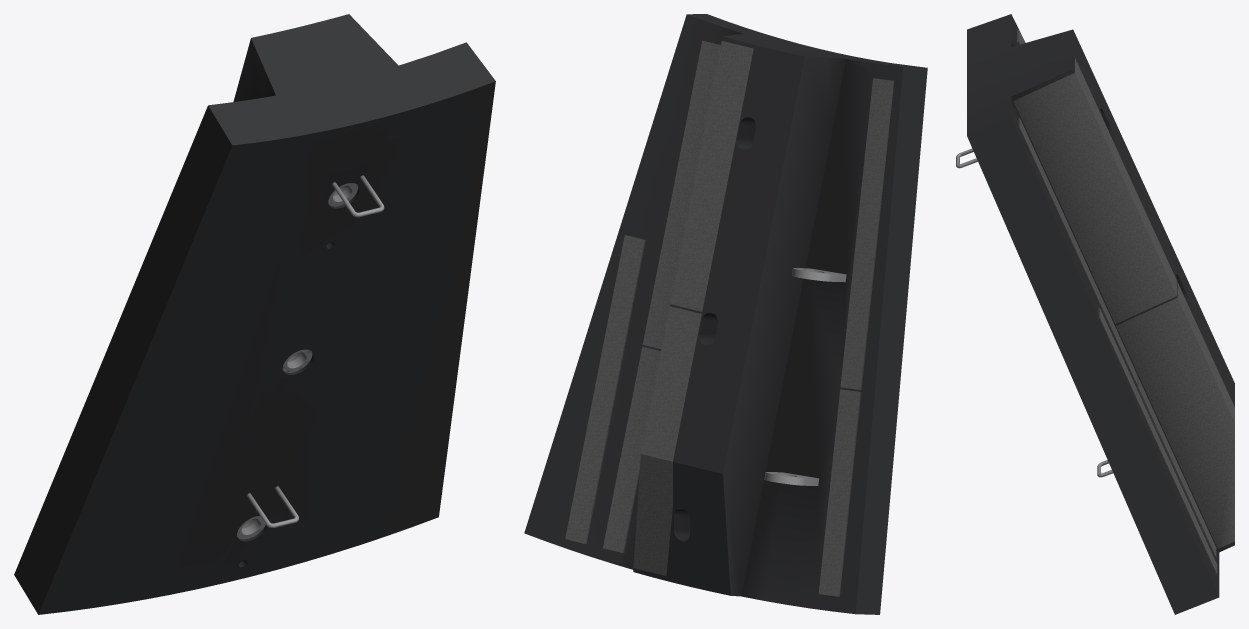
File: ball-end-liner-integrated.glb
3 renders of one model, left to right at view 1: azimuth 30°, elevation 25°; view 2: azimuth 150°, elevation 25°; view 3: azimuth 270°, elevation 25°, orthographic. The views are drawn at different scales.
Visible parts, largest first — view 1: composite, bolt; view 2: composite, compositeInsert, bolt; view 3: composite, compositeInsert.
Boxes of the visible parts, left/top/right/bottom form: composite: left=14, top=14, right=495, bottom=614; bolt: left=237, top=175, right=384, bottom=539; composite: left=524, top=14, right=927, bottom=614; compositeInsert: left=565, top=40, right=894, bottom=596; bolt: left=764, top=268, right=846, bottom=485; composite: left=967, top=14, right=1234, bottom=614; compositeInsert: left=1013, top=29, right=1234, bottom=575.
Size of the model in its own units: 0.996 by 1.42 by 0.7251.
Materials: 3 (1 with a texture image).
